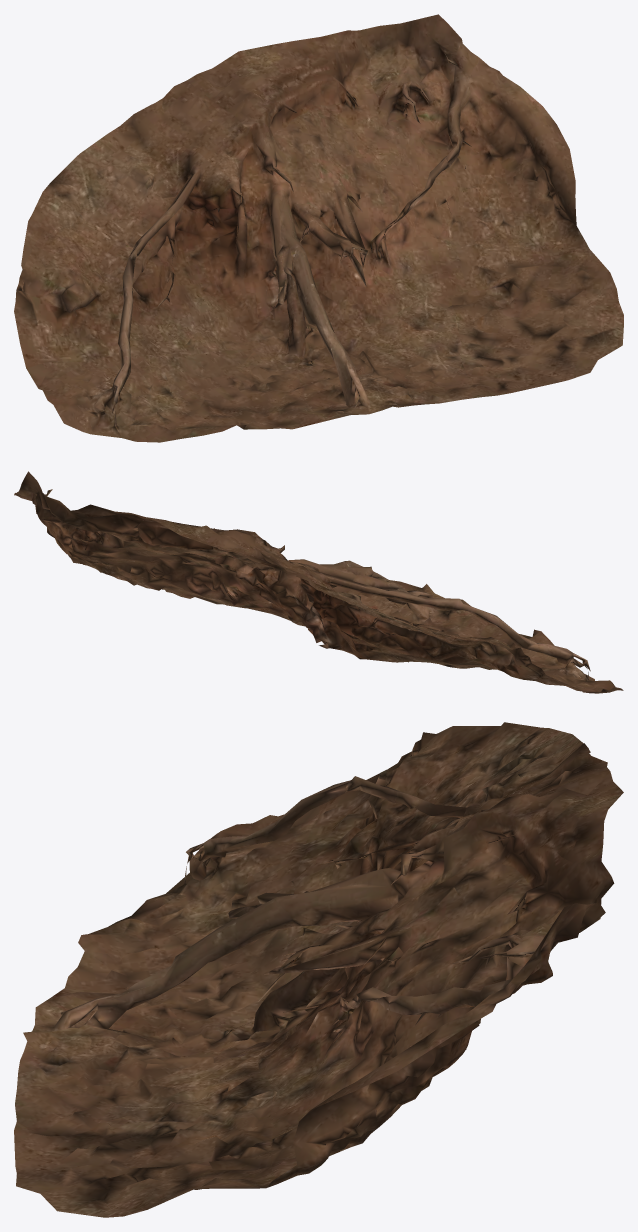
The model's file is root_cluster_01.glb.
3 renders of one model, top to bottom at view 1: azimuth 30°, elevation 25°; view 2: azimuth 150°, elevation 25°; view 3: azimuth 270°, elevation 25°, orthographic. The views are drawn at different scales.
Visible parts, largest first — view 1: root_cluster_01; view 2: root_cluster_01; view 3: root_cluster_01.
Boxes of the visible parts, bbox=[...] form: root_cluster_01: bbox=[14, 14, 623, 442]; root_cluster_01: bbox=[14, 471, 623, 693]; root_cluster_01: bbox=[14, 722, 623, 1217].
Size of the model in its own units: 4.12 by 1.51 by 2.68.
1 material, 1 textured.
